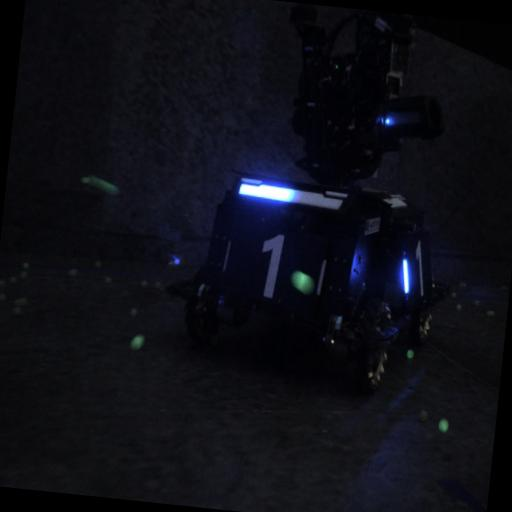target: (214, 176, 350, 334), (393, 222, 438, 315)
